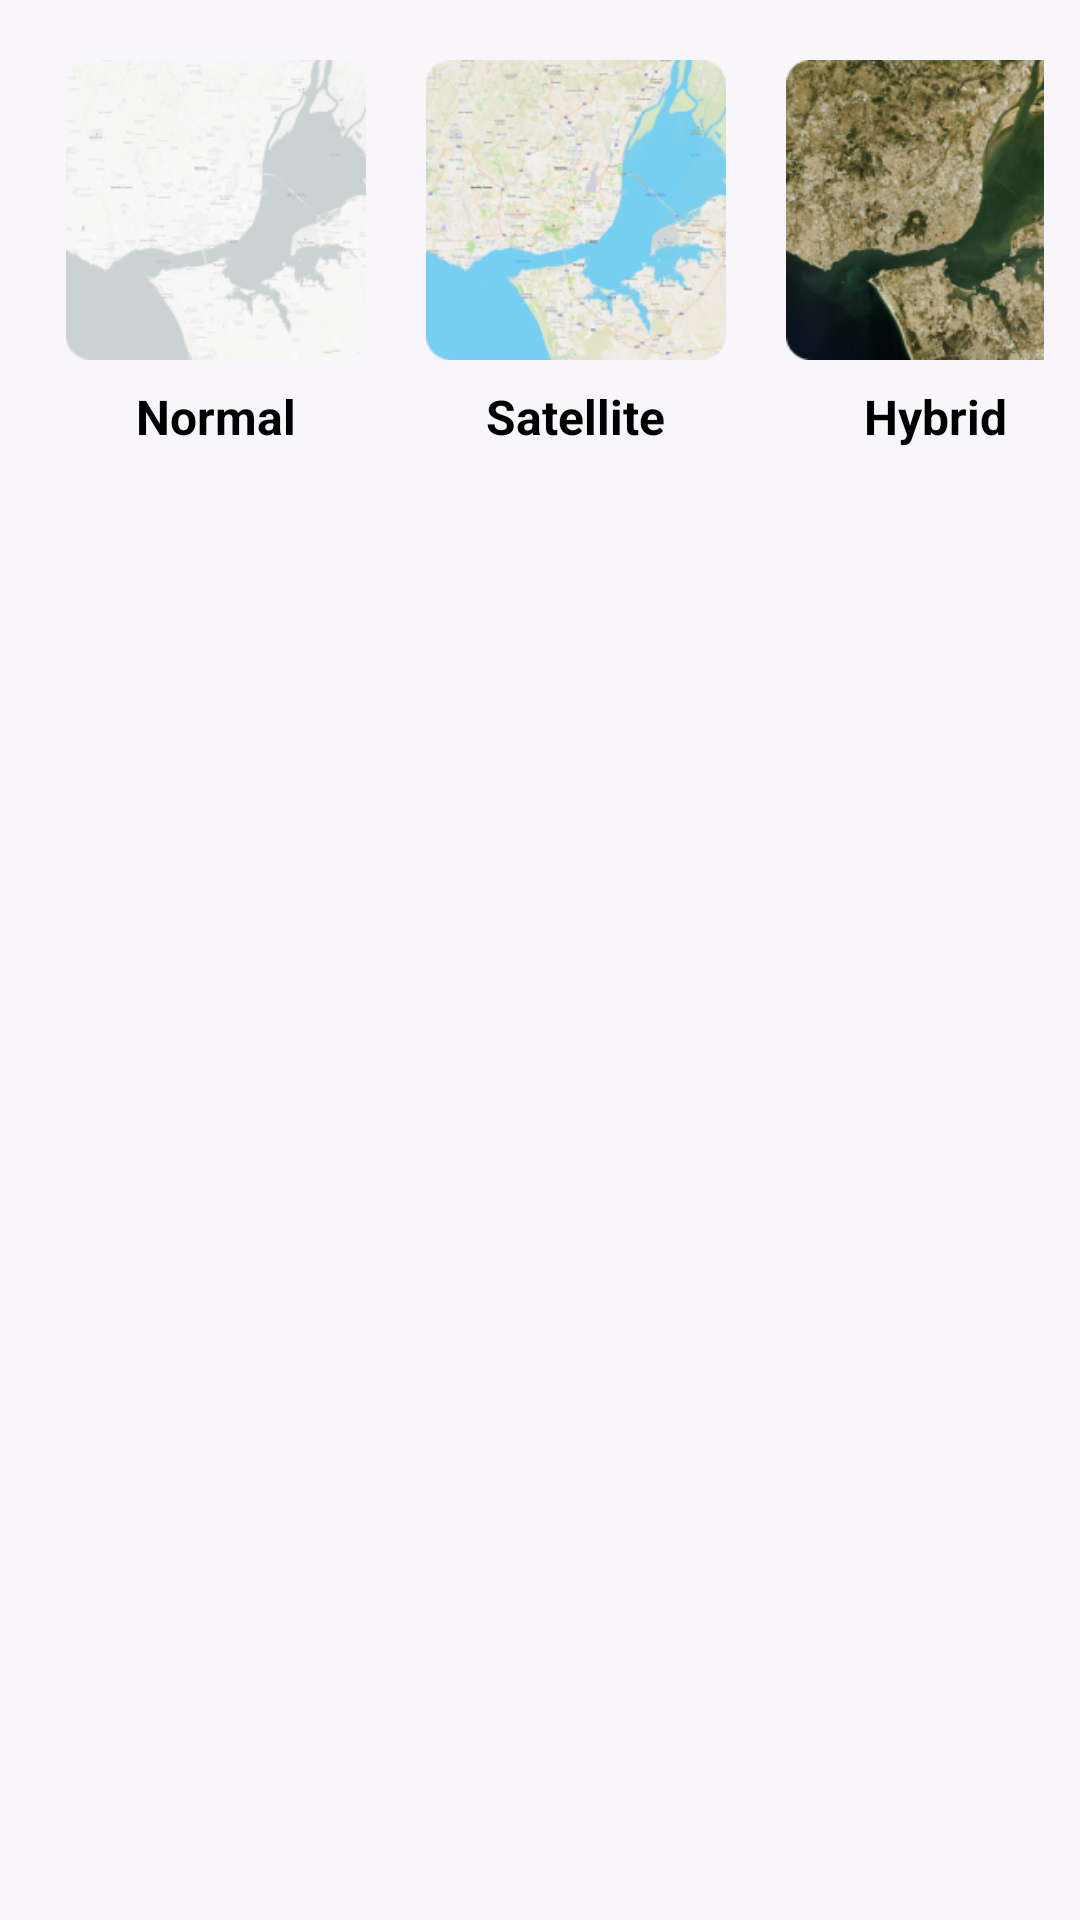

Icons on this 1080 x 1920 Android screen, each with the point to tap as point (x, y):
map: point (216, 210)
stateline map: point (576, 210)
